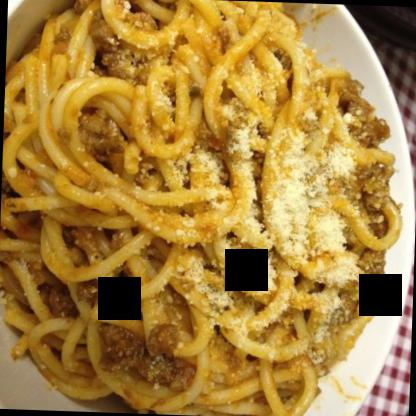pasta: (0, 0, 408, 415)
